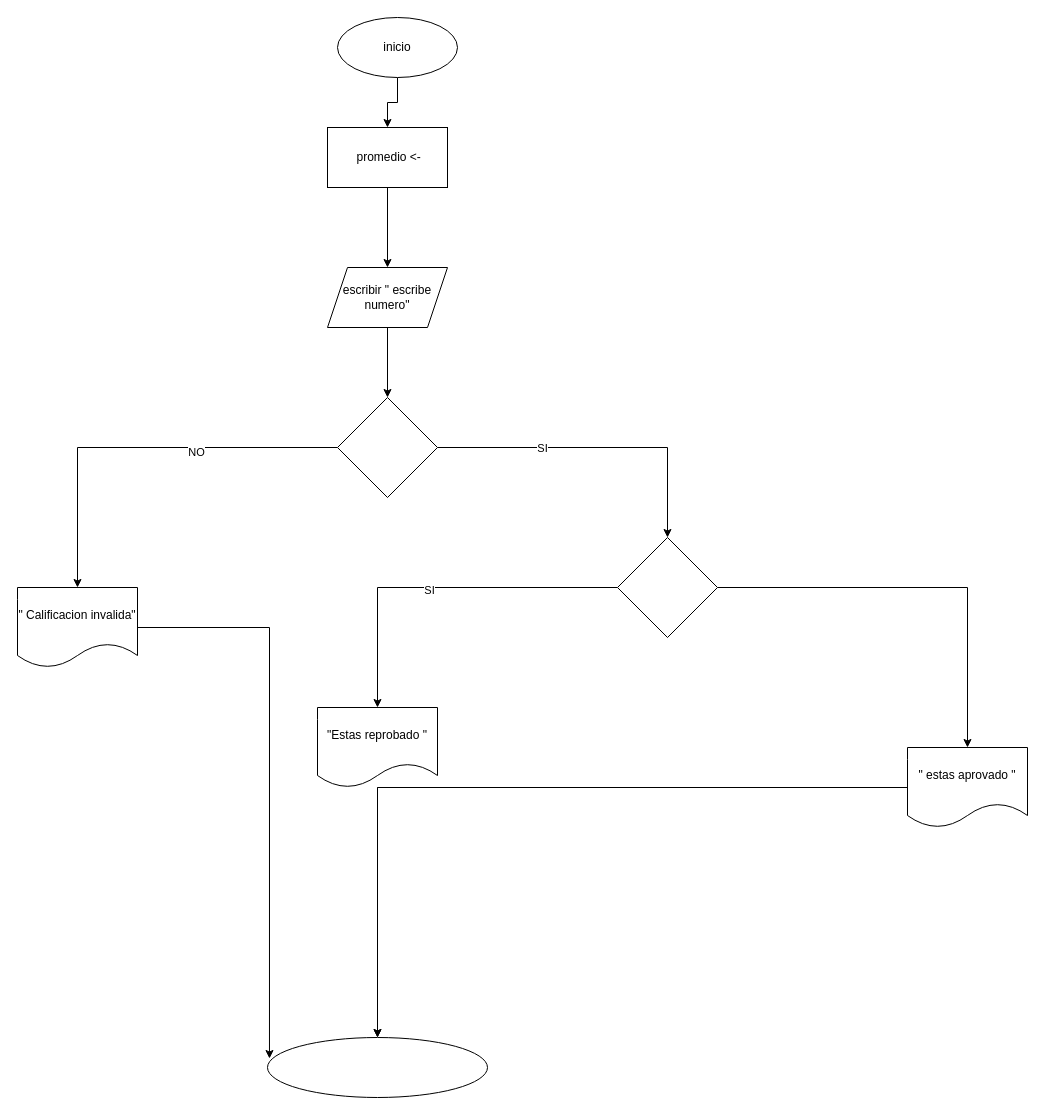
The diagram is 1045 pixels wide and 1115 high, and some of its shapes have lost their labels. The shapes that lost their labels are listed below. From the top down, each one's box as (x1, y1, x2, y2) in pixels, then its label:
(336, 396, 438, 498): calificacion <=7 >=1
(616, 536, 718, 638): Calificacion <=4
(266, 1036, 488, 1098): fin
